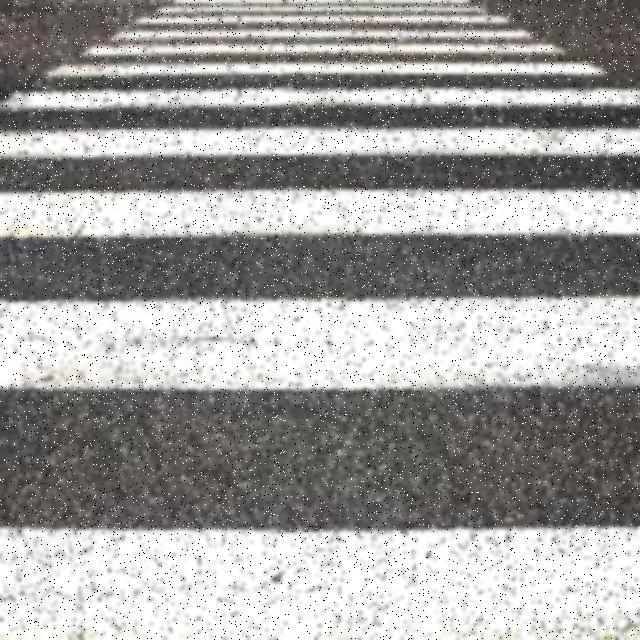Pedestrian crosswalk: (0, 0, 638, 638)
